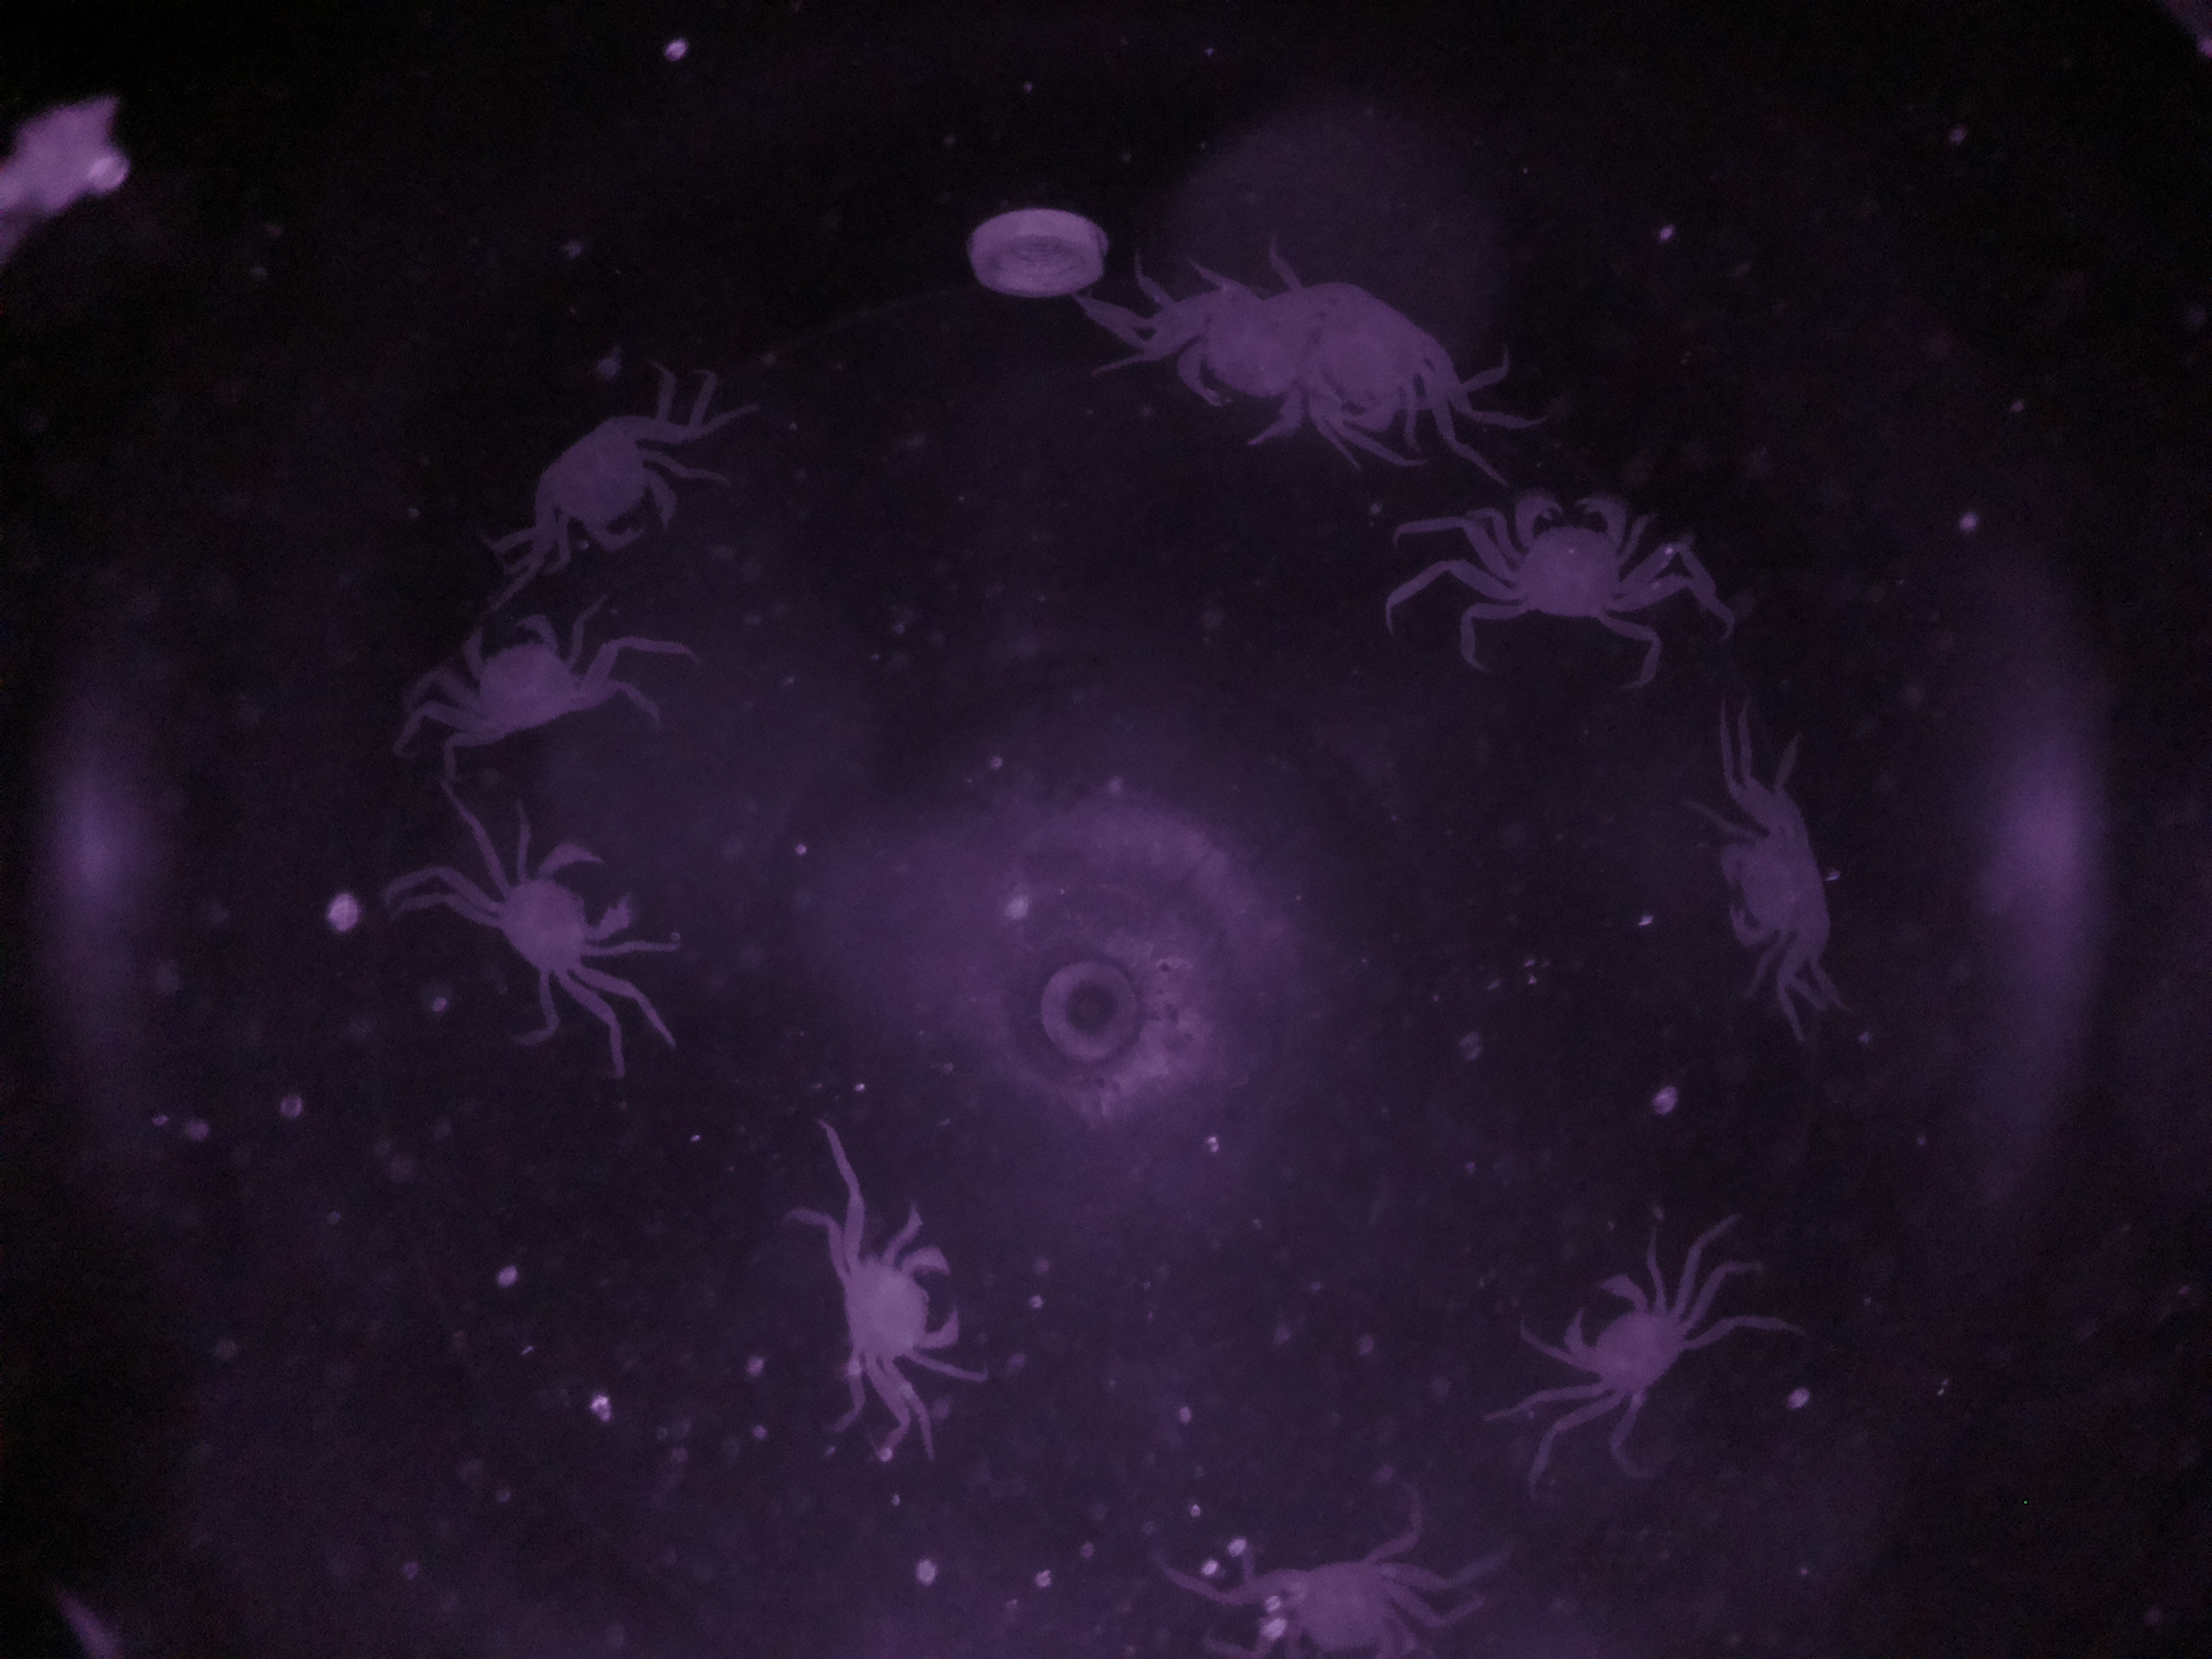Crab: (1437, 469, 1670, 645), (460, 819, 650, 1019), (808, 1199, 977, 1413), (1703, 774, 1855, 1012), (1527, 1237, 1716, 1422), (413, 596, 613, 758)
